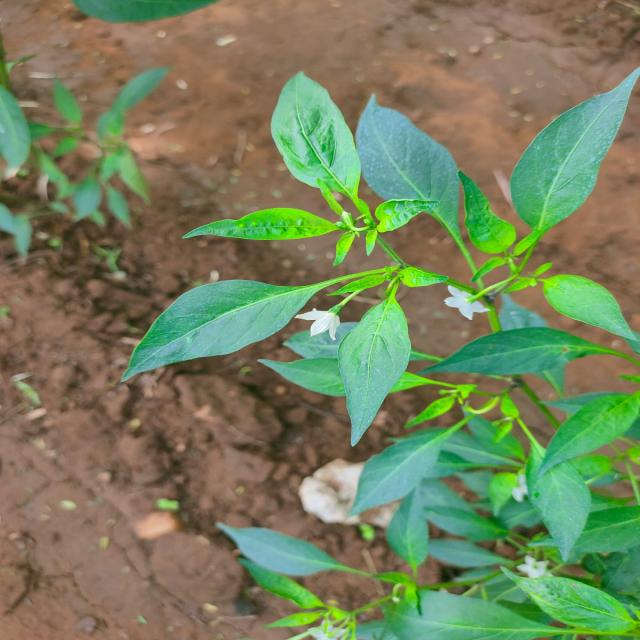Mosaic_virus: (174, 90, 640, 640)
